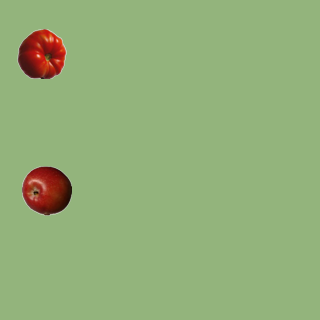Apple Braeburn: (21, 165, 71, 215)
Tomato 3: (16, 28, 66, 78)
